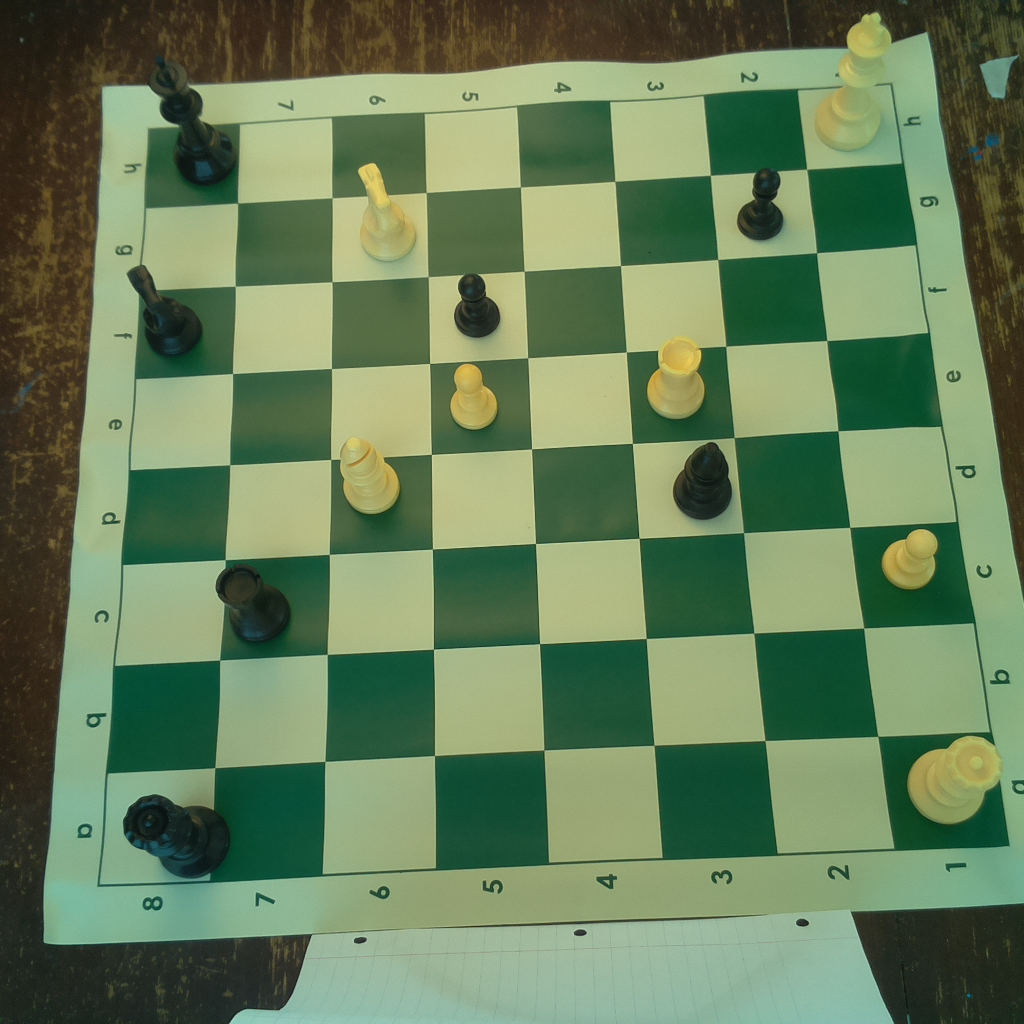black_bishop: (671, 438, 736, 523)
black_king: (146, 49, 240, 183)
black_knight: (124, 257, 210, 356)
black_pawn: (731, 165, 790, 240), (447, 266, 503, 340)
black_queen: (111, 791, 237, 878)
black_rook: (212, 561, 292, 643)
file_a: (97, 730, 1012, 886)
file_b: (106, 622, 990, 773)
file_c: (115, 523, 979, 665)
file_d: (121, 427, 958, 565)
file_e: (129, 334, 944, 470)
file_f: (136, 245, 931, 383)
file_g: (141, 166, 915, 295)
file_h: (145, 87, 902, 210)
outline: (98, 82, 1012, 887)
rank_1: (796, 82, 1012, 851)
rank_2: (706, 88, 896, 853)
rank_3: (611, 95, 779, 857)
rank_4: (518, 99, 662, 864)
rank_5: (423, 105, 550, 873)
rank_6: (321, 112, 437, 873)
rank_7: (211, 115, 332, 884)
rank_8: (97, 122, 240, 890)
white_bishop: (337, 435, 403, 517)
white_king: (808, 9, 894, 154)
white_knight: (350, 156, 419, 265)
white_pawn: (442, 354, 502, 435), (881, 525, 945, 595)
white_queen: (905, 731, 1007, 832)
white_rook: (640, 336, 711, 422)
